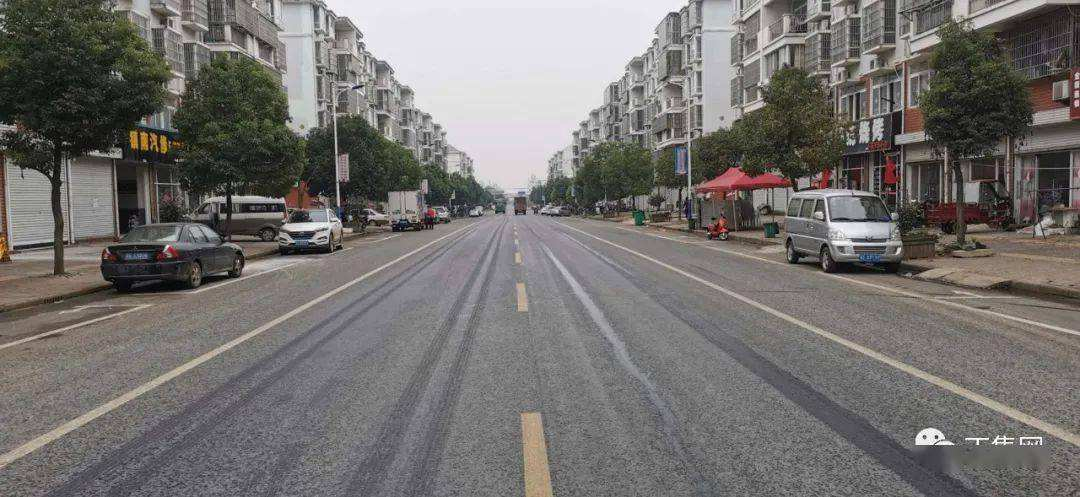slot_nocar: (932, 280, 1080, 352), (3, 289, 150, 357), (343, 212, 408, 251)
